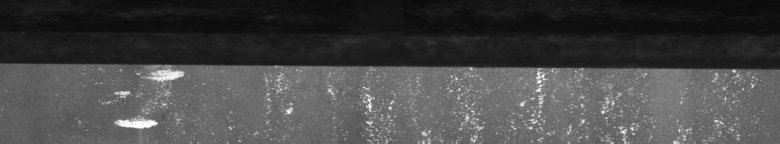kb: (4, 56, 364, 136)
